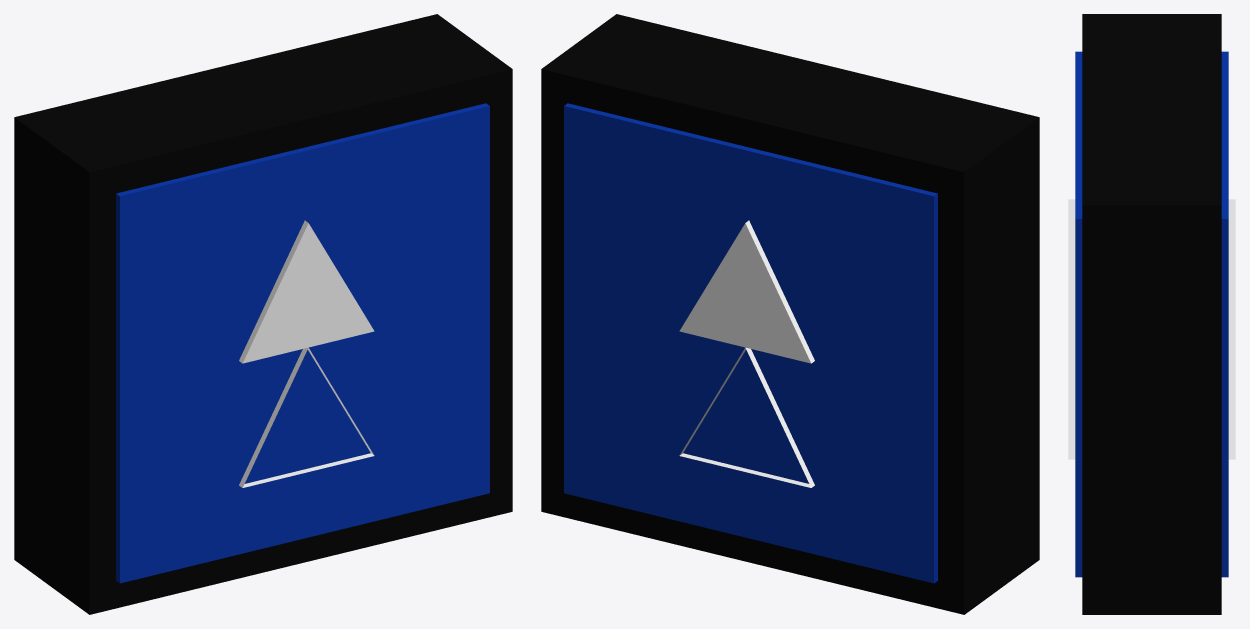
3 renders of one model, left to right at view 1: azimuth 30°, elevation 25°; view 2: azimuth 150°, elevation 25°; view 3: azimuth 270°, elevation 25°, orthographic. The views are drawn at different scales.
Parts seen in each view (by area): view 1: U+23EB_layer01_obj00, U+23EB_layer00_obj00, U+23EB_layer02_obj00; view 2: U+23EB_layer01_obj00, U+23EB_layer00_obj00, U+23EB_layer02_obj00; view 3: U+23EB_layer00_obj00, U+23EB_layer01_obj00, U+23EB_layer02_obj00.
Boxes of the visible parts, bbox=[...] form: U+23EB_layer01_obj00: bbox=[116, 103, 489, 583]; U+23EB_layer00_obj00: bbox=[14, 14, 512, 614]; U+23EB_layer02_obj00: bbox=[239, 220, 374, 487]; U+23EB_layer01_obj00: bbox=[564, 103, 937, 583]; U+23EB_layer00_obj00: bbox=[541, 14, 1039, 614]; U+23EB_layer02_obj00: bbox=[679, 220, 814, 487]; U+23EB_layer00_obj00: bbox=[1082, 14, 1221, 614]; U+23EB_layer01_obj00: bbox=[1075, 51, 1228, 577]; U+23EB_layer02_obj00: bbox=[1068, 199, 1235, 459].
Size of the model in its own units: 0.6491 by 0.649 by 0.24.
